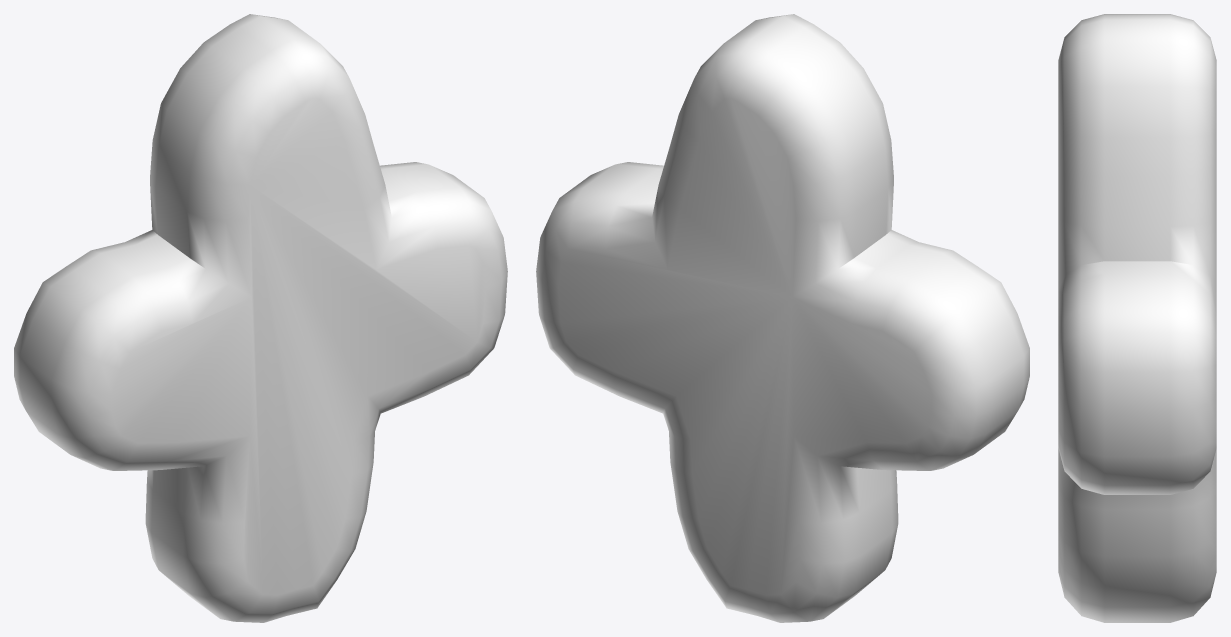
Rendered from Symbol+.fbx.
The picture shows the model from 3 angles, left to right: view 1: azimuth 30°, elevation 25°; view 2: azimuth 150°, elevation 25°; view 3: azimuth 270°, elevation 25°; orthographic projection. The views are drawn at different scales.
Visible parts, largest first — view 1: Vert.010; view 2: Vert.010; view 3: Vert.010.
Part boxes in pixels (<box>): Vert.010: <box>14,14,507,622</box>; Vert.010: <box>536,14,1029,622</box>; Vert.010: <box>1058,14,1216,622</box>.
Bounding box in the file's own units: 253 × 307 × 73.91.
